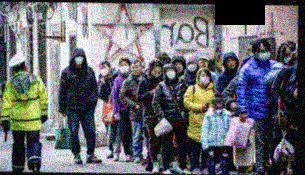with_mask: (255, 44, 271, 60), (198, 71, 211, 86), (282, 49, 293, 64), (164, 67, 177, 79), (212, 104, 224, 116), (73, 53, 85, 65), (119, 61, 130, 74), (99, 63, 110, 76), (186, 60, 197, 71), (151, 68, 162, 78)
without_mask: (224, 55, 237, 69), (172, 60, 184, 73), (131, 63, 141, 76), (198, 59, 207, 69)
